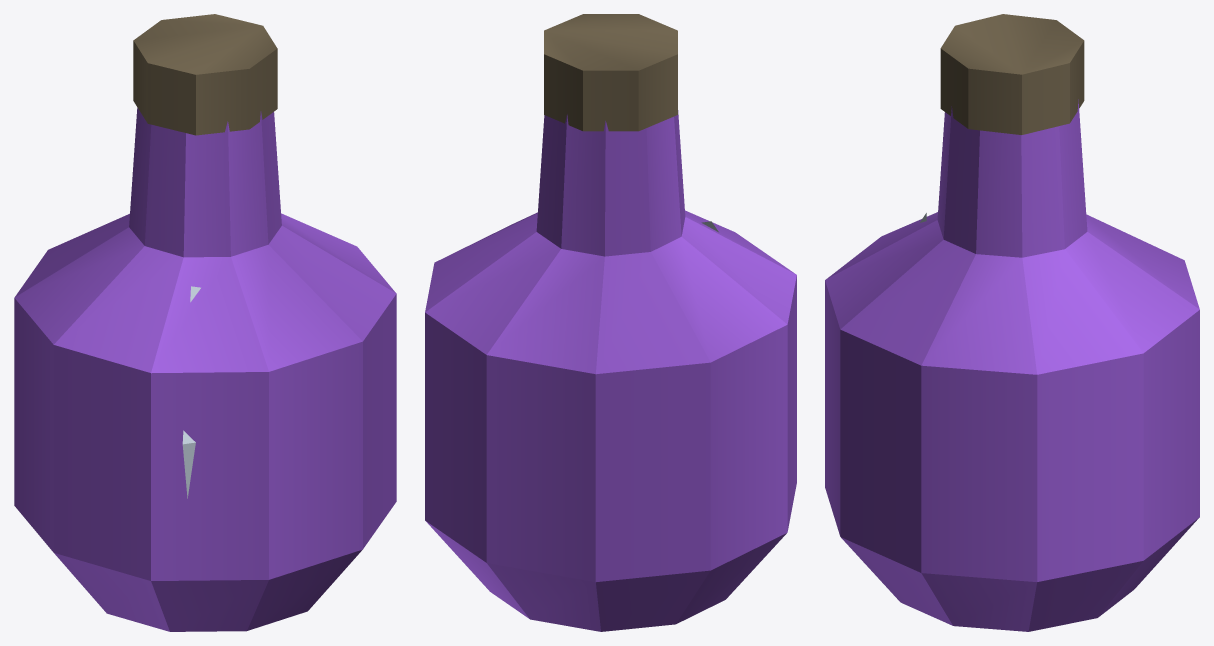
File: 2045_PotionThrow_Throw_Projectile.fbx
The picture shows the model from 3 angles, left to right: view 1: azimuth 30°, elevation 25°; view 2: azimuth 150°, elevation 25°; view 3: azimuth 270°, elevation 25°; orthographic projection.
Parts seen in each view (by area): view 1: PART_ElectroPotionGlassBody, PART_ElectroPotionCork, PART_ElectroPotionGlassGleam; view 2: PART_ElectroPotionGlassBody, PART_ElectroPotionCork; view 3: PART_ElectroPotionGlassBody, PART_ElectroPotionCork.
Part boxes in pixels (x1=…): PART_ElectroPotionGlassBody: x1=14, y1=107, x2=396, y2=631; PART_ElectroPotionCork: x1=133, y1=14, x2=277, y2=135; PART_ElectroPotionGlassGleam: x1=182, y1=286, x2=200, y2=498; PART_ElectroPotionGlassBody: x1=425, y1=110, x2=796, y2=631; PART_ElectroPotionCork: x1=544, y1=14, x2=677, y2=131; PART_ElectroPotionGlassBody: x1=825, y1=99, x2=1199, y2=631; PART_ElectroPotionCork: x1=940, y1=14, x2=1084, y2=134.
Size of the model in its own units: 39.66 by 62 by 39.32.
